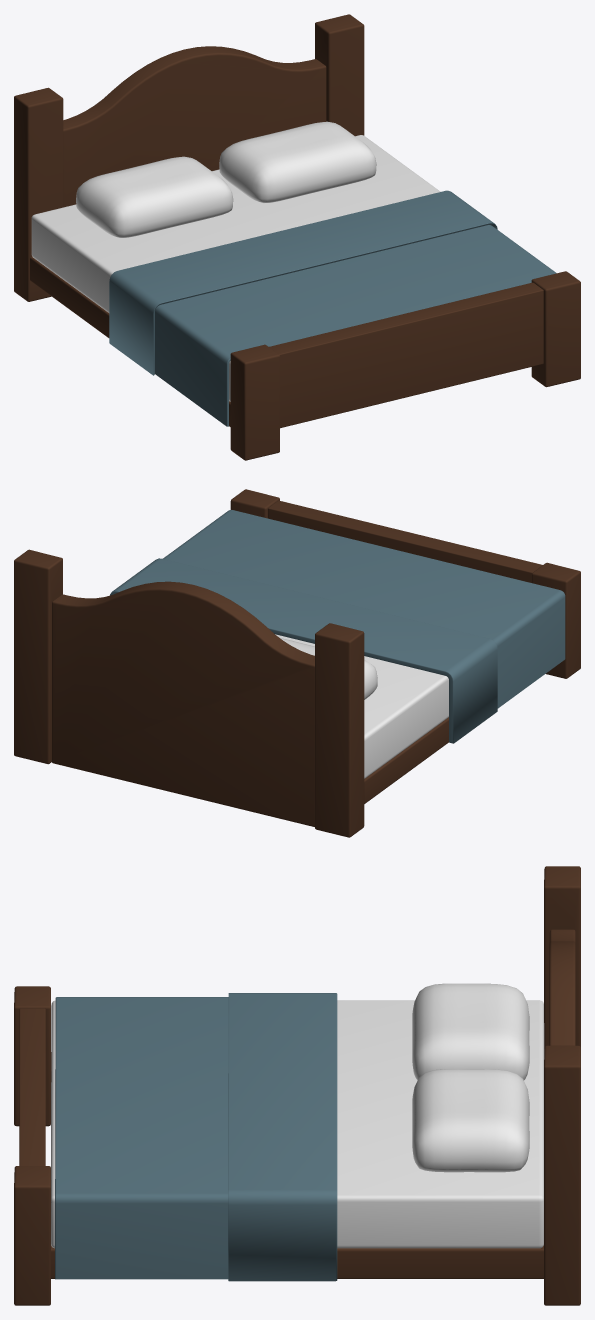
Rendered from Bed.fbx.
3 views of the same model, one above another, from view 1: azimuth 30°, elevation 25°; view 2: azimuth 150°, elevation 25°; view 3: azimuth 270°, elevation 25° (orthographic). The views are drawn at different scales.
Parts seen in each view (by area): view 1: BedBase_stanick, Plaid_stanick001, Mattress_stanick001, Pillow_stanick004, Pillow_stanick003; view 2: BedBase_stanick, Plaid_stanick001, Mattress_stanick001, Pillow_stanick003; view 3: Plaid_stanick001, BedBase_stanick, Mattress_stanick001, Pillow_stanick004, Pillow_stanick003.
Part boxes in pixels (left/top/right/bottom): BedBase_stanick: left=14, top=14, right=580, bottom=460; Plaid_stanick001: left=109, top=190, right=556, bottom=426; Mattress_stanick001: left=31, top=135, right=440, bottom=401; Pillow_stanick004: left=219, top=121, right=376, bottom=202; Pillow_stanick003: left=76, top=156, right=233, bottom=237; BedBase_stanick: left=14, top=489, right=580, bottom=837; Plaid_stanick001: left=110, top=510, right=565, bottom=743; Mattress_stanick001: left=275, top=634, right=448, bottom=778; Pillow_stanick003: left=280, top=638, right=377, bottom=699; Plaid_stanick001: left=55, top=993, right=337, bottom=1281; BedBase_stanick: left=14, top=866, right=580, bottom=1305; Mattress_stanick001: left=51, top=1000, right=544, bottom=1248; Pillow_stanick004: left=412, top=1069, right=529, bottom=1172; Pillow_stanick003: left=412, top=983, right=529, bottom=1080.
Size of the model in its own units: 1832 by 2139 by 1036.
